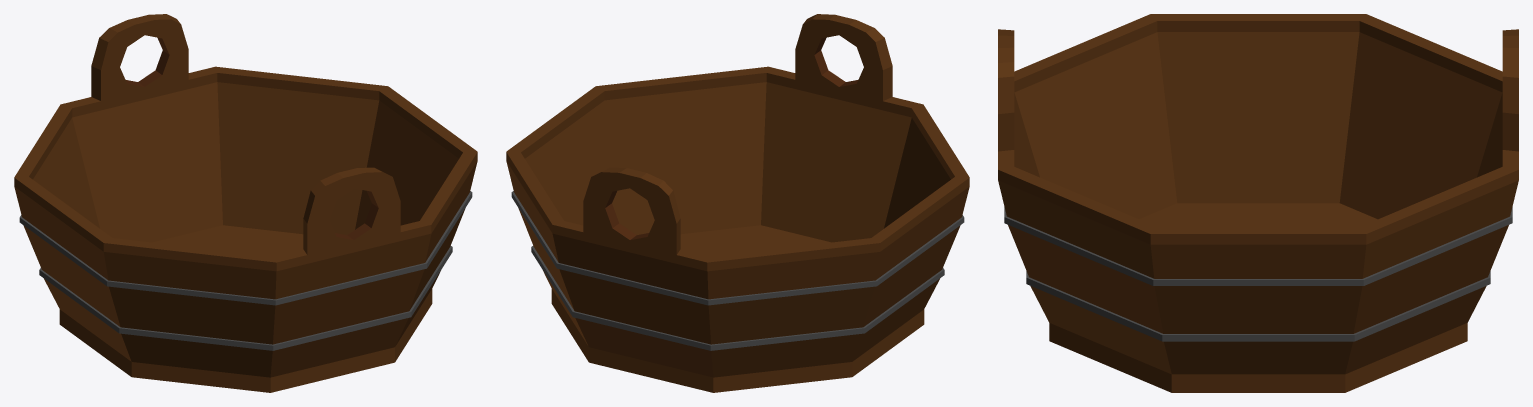
The model's file is MBS_City_Badezuber.fbx.
The picture shows the model from 3 angles, left to right: view 1: azimuth 30°, elevation 25°; view 2: azimuth 150°, elevation 25°; view 3: azimuth 270°, elevation 25°; orthographic projection. The views are drawn at different scales.
Parts seen in each view (by area): view 1: Cylinder; view 2: Cylinder; view 3: Cylinder.
Boxes of the visible parts, x1=… form: Cylinder: x1=14, y1=14, x2=477, y2=392; Cylinder: x1=506, y1=14, x2=969, y2=392; Cylinder: x1=998, y1=14, x2=1518, y2=392.
Bounding box in the file's own units: 246 × 137 × 246.
